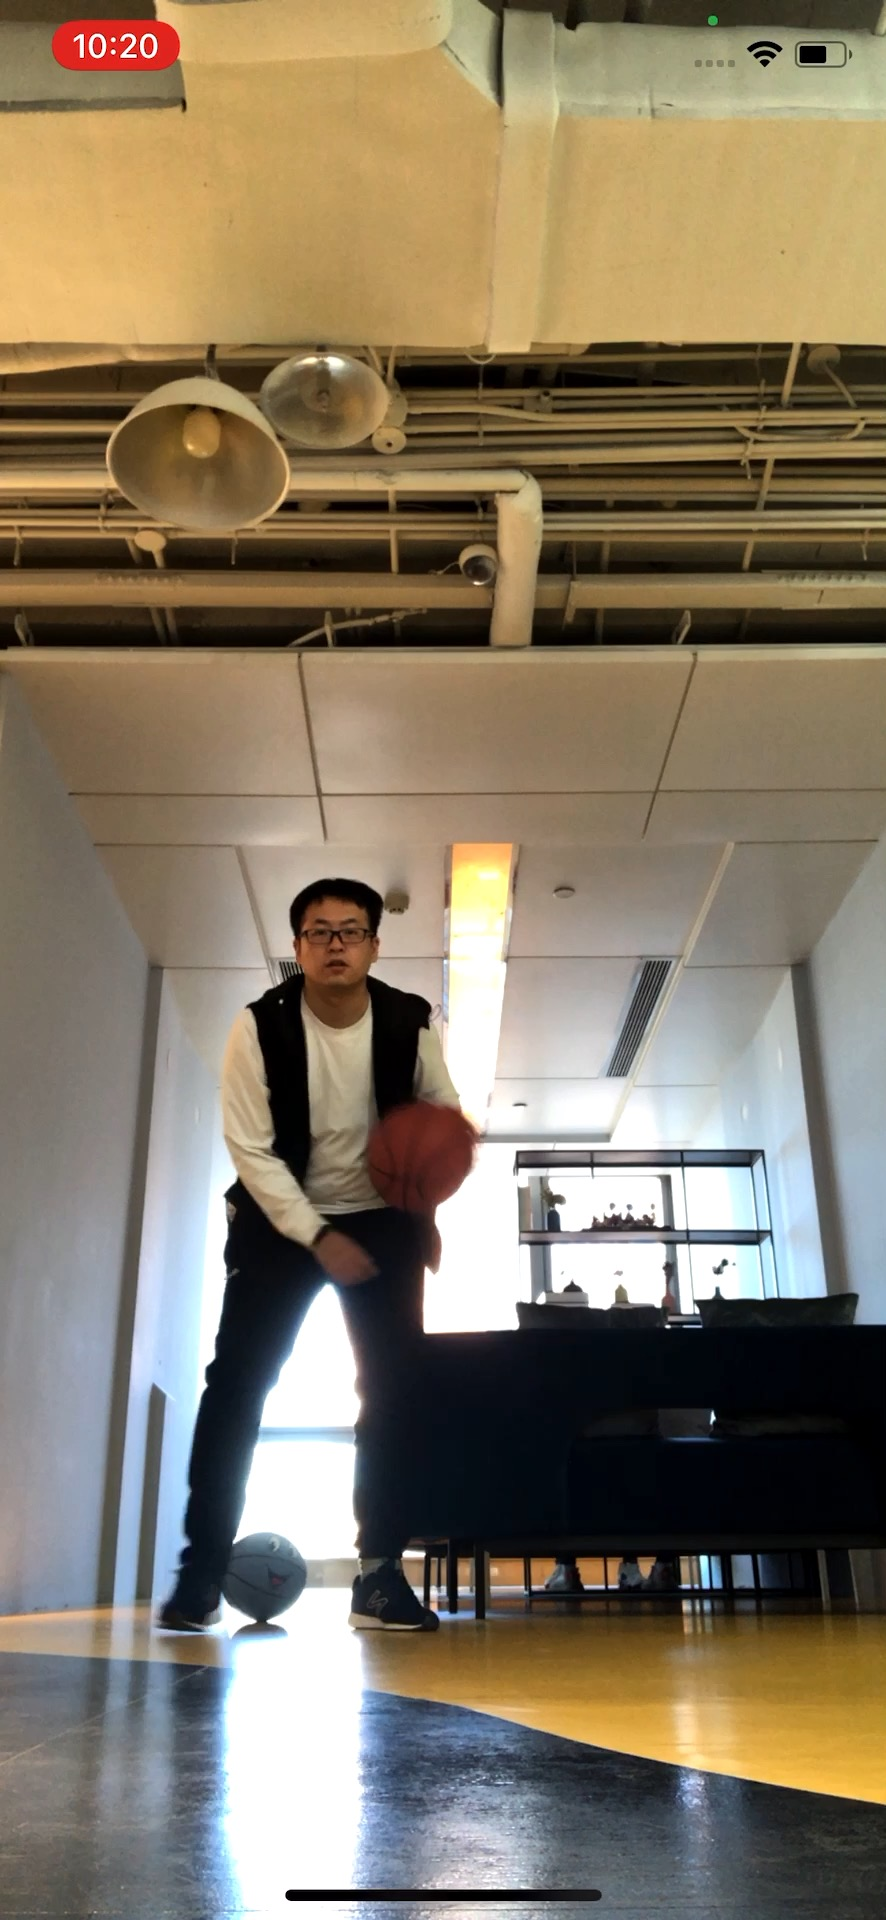ball: (367, 1100, 478, 1209), (225, 1533, 306, 1622)
